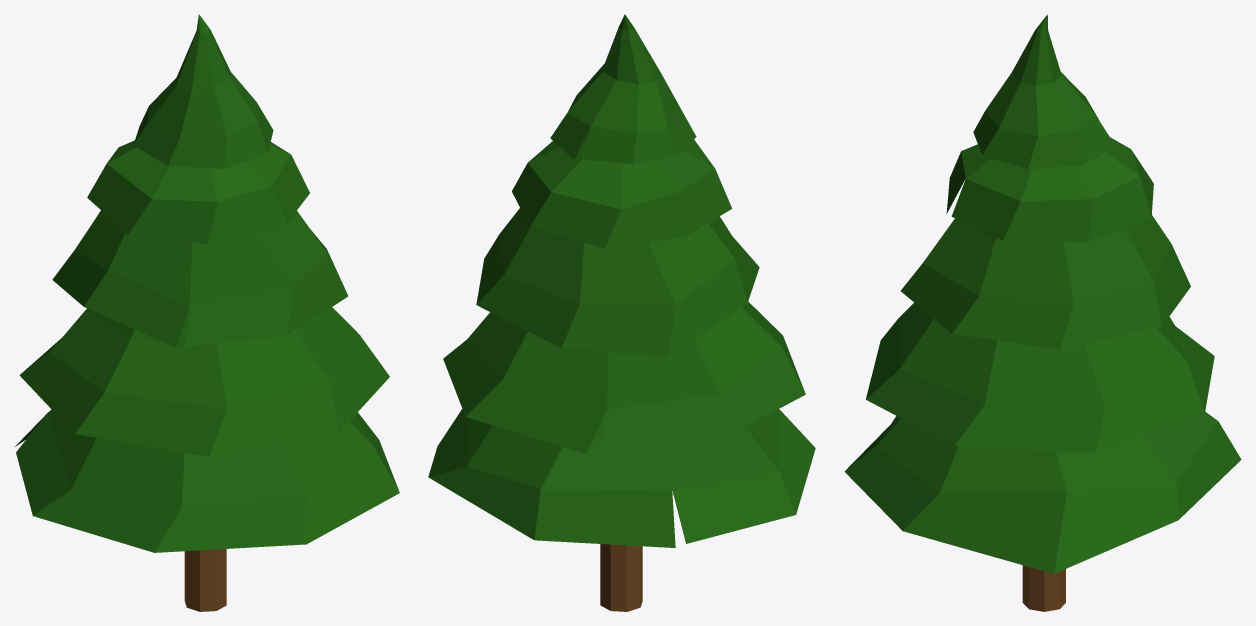
Rendered from Tree_3.fbx.
The picture shows the model from 3 angles, left to right: view 1: azimuth 30°, elevation 25°; view 2: azimuth 150°, elevation 25°; view 3: azimuth 270°, elevation 25°; orthographic projection.
Visible parts, largest first — view 1: Tree4; view 2: Tree4; view 3: Tree4.
Part boxes in pixels (x1,y1,x2,y2): Tree4: (15, 14, 399, 611); Tree4: (428, 14, 815, 611); Tree4: (844, 14, 1241, 611).
Bounding box in the file's own units: 166 × 265 × 163.
